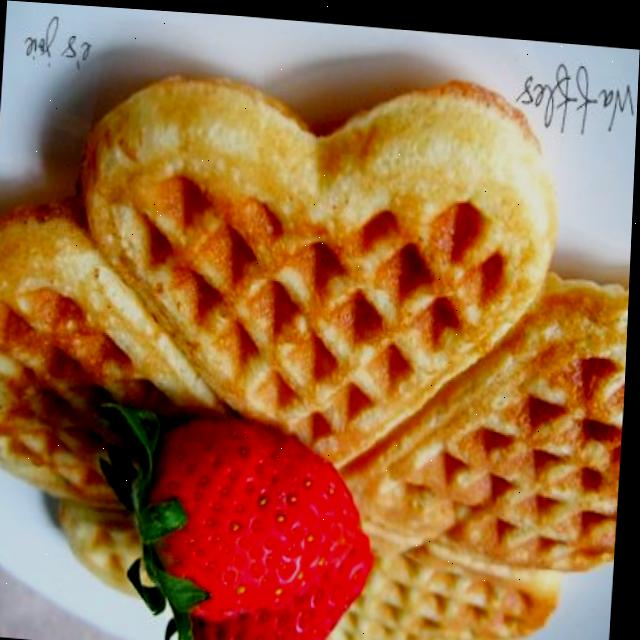炸货点心: (0, 25, 639, 640)
蛋糕甜品: (0, 25, 639, 640)
